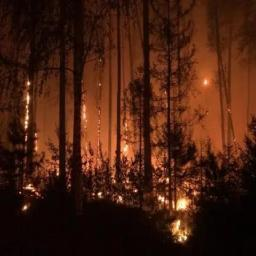Low smoke: (83, 3, 249, 93)
Small fire: (145, 175, 201, 245), (17, 71, 43, 212), (116, 110, 141, 202), (78, 95, 90, 143)
